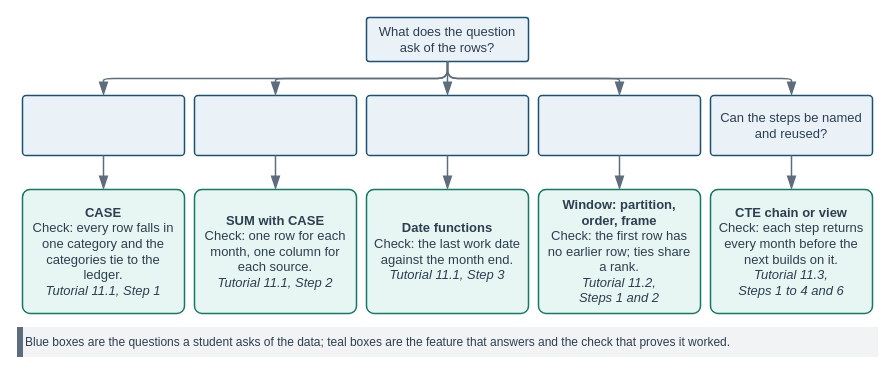
Some shapes in this 895 by 376 pixel diagram are drawn without their labels. Here are the shapes that lost their labels. From the top down, the box of each, then its label:
(21, 94, 185, 156): Which group does each row belong in?
(193, 94, 357, 156): How much of a measure for each category, side by side?
(365, 94, 529, 156): Which period is a row in, and where do the dates stop?
(537, 94, 701, 156): How does a row compare with the rows around it?
